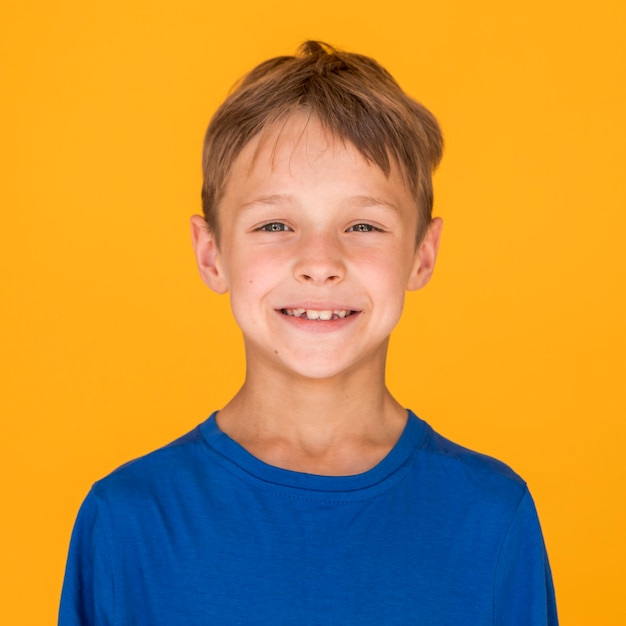teen: (177, 37, 459, 384)
